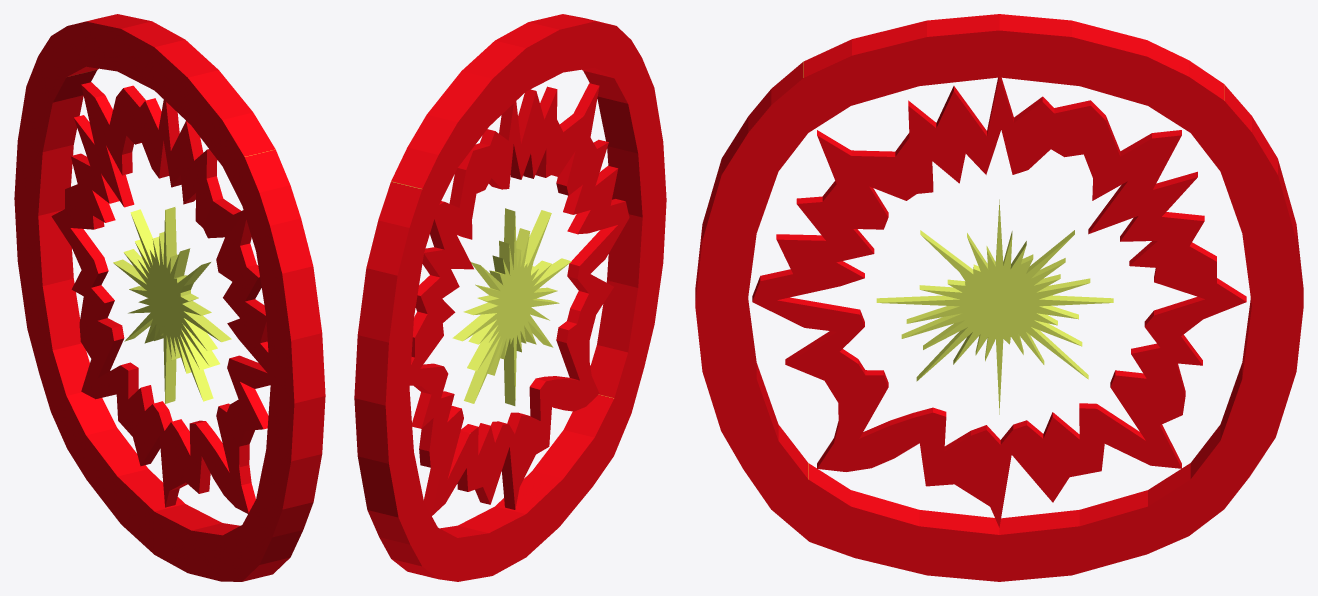
File: SpeedUpRingRed.fbx
3 views of the same model, side by side, from view 1: azimuth 30°, elevation 25°; view 2: azimuth 150°, elevation 25°; view 3: azimuth 270°, elevation 25° (orthographic). The views are drawn at different scales.
Visible parts, largest first — view 1: Cube; view 2: Cube; view 3: Cube.
Part boxes in pixels (x1,y1,x2,y2): Cube: (14,14,325,581); Cube: (354,14,666,581); Cube: (695,14,1303,581).
Bounding box in the file's own units: 50.08 × 780 × 780.
